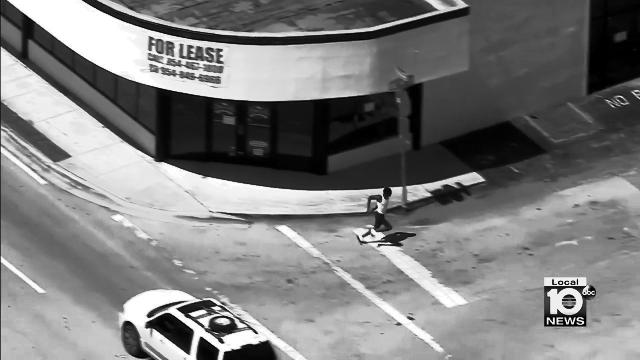berlari: (357, 182, 398, 248)
